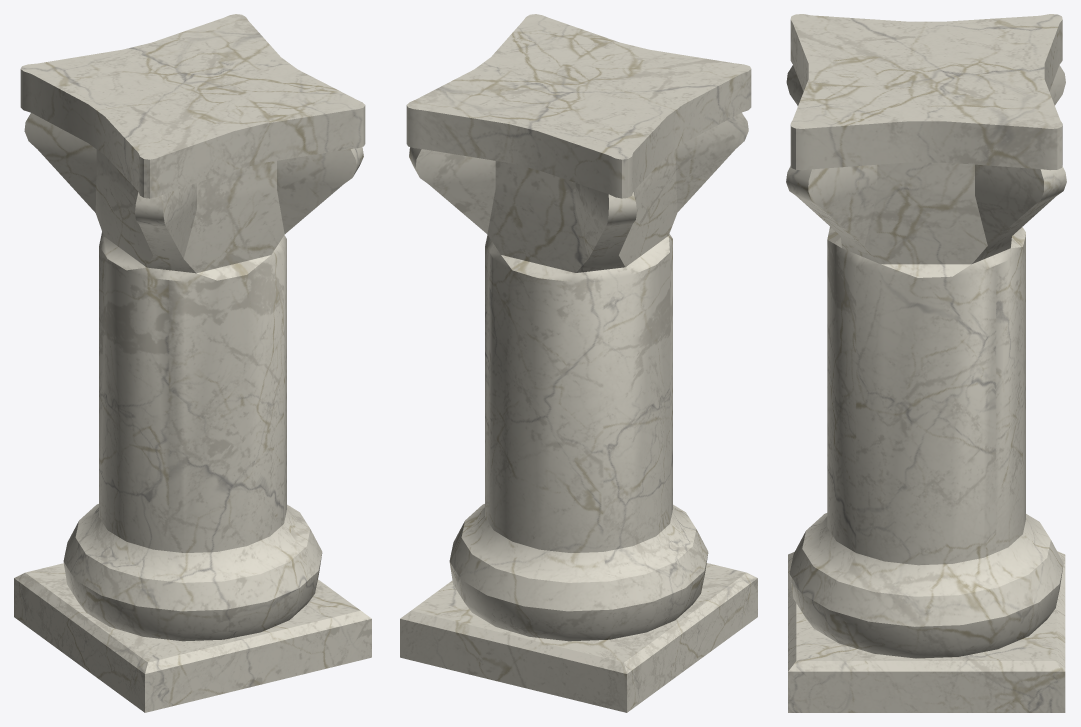
3 renders of one model, left to right at view 1: azimuth 30°, elevation 25°; view 2: azimuth 150°, elevation 25°; view 3: azimuth 270°, elevation 25°, orthographic. The views are drawn at different scales.
Visible parts, largest first — view 1: pedestal-gallery; view 2: pedestal-gallery; view 3: pedestal-gallery.
Boxes of the visible parts, x1=… form: pedestal-gallery: x1=14, y1=14, x2=371, y2=712; pedestal-gallery: x1=400, y1=14, x2=757, y2=712; pedestal-gallery: x1=786, y1=14, x2=1066, y2=712.
Size of the model in its own units: 0.5876 by 1.35 by 0.5896.
1 material, 1 textured.
